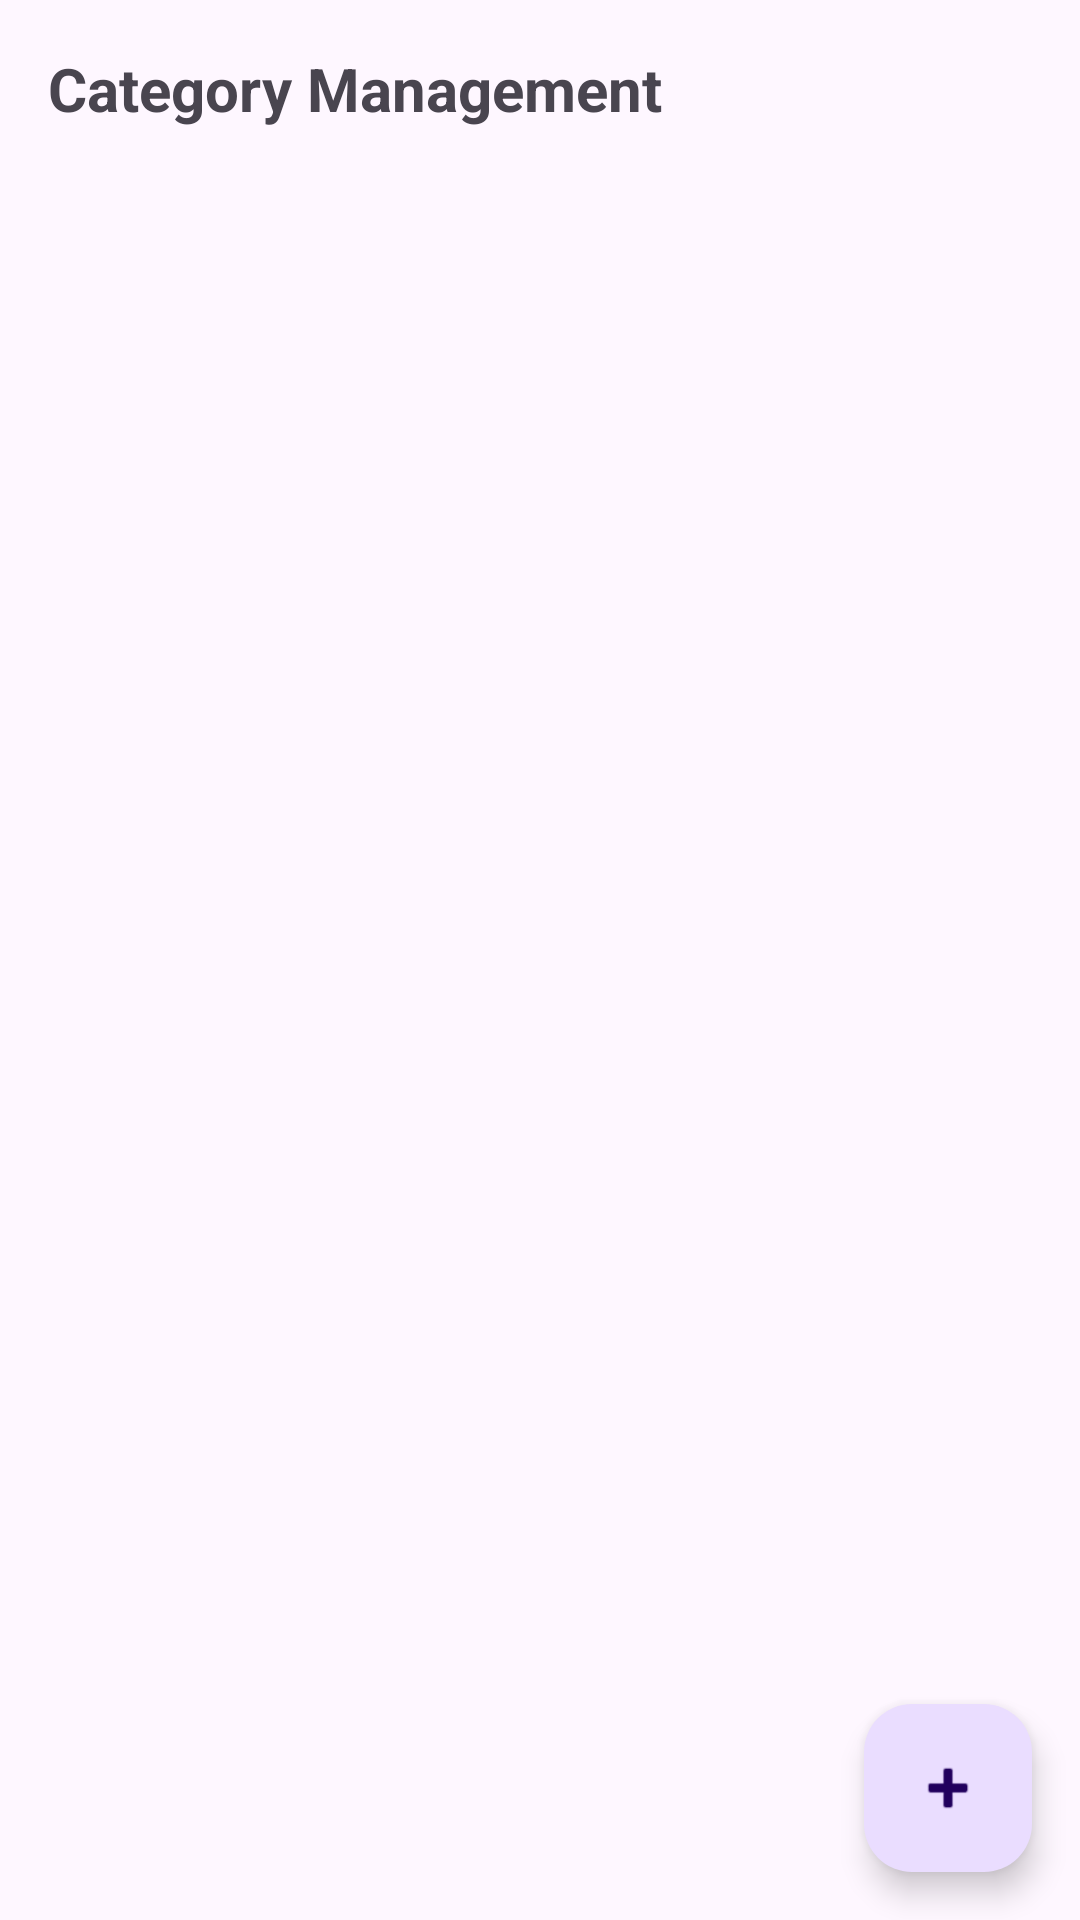

Icons on this 1080w x 1920h Android screen, each with the point to tap as (x=x, y=y):
Add Category: (x=948, y=1788)
